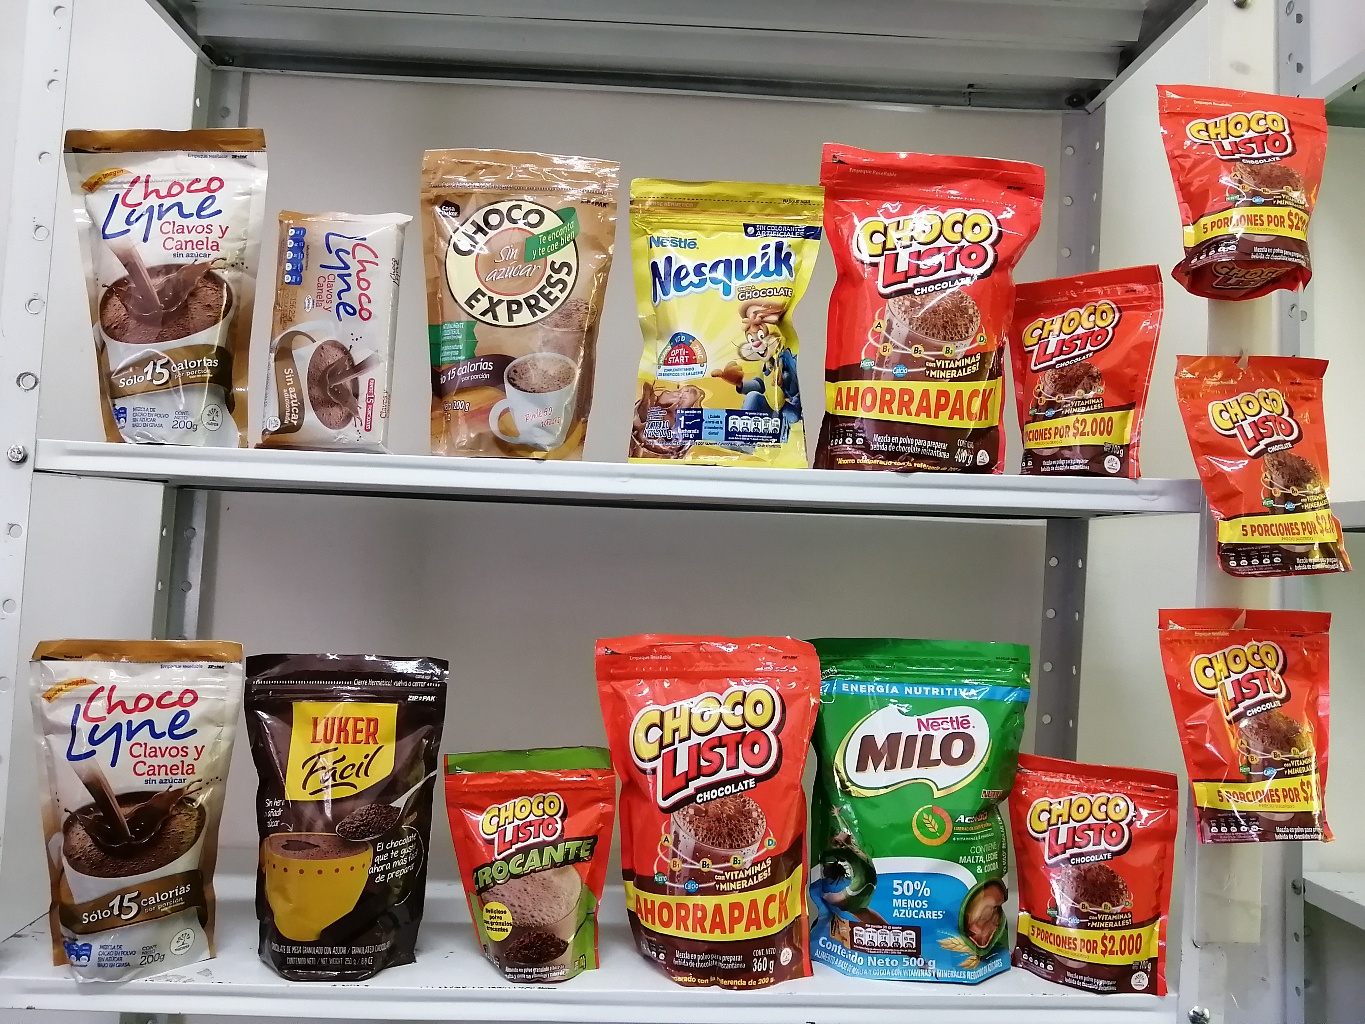COL0170102DYP10000: (446, 734, 621, 982)
COL0170103DYP10000: (1157, 61, 1326, 301)
COL0170103DYP36000: (591, 617, 823, 986)
COL0170103DYP40000: (808, 136, 1043, 461)
COL0170205DYP50000: (806, 632, 1016, 975)
COL0170306DYP20000: (623, 168, 817, 468)
